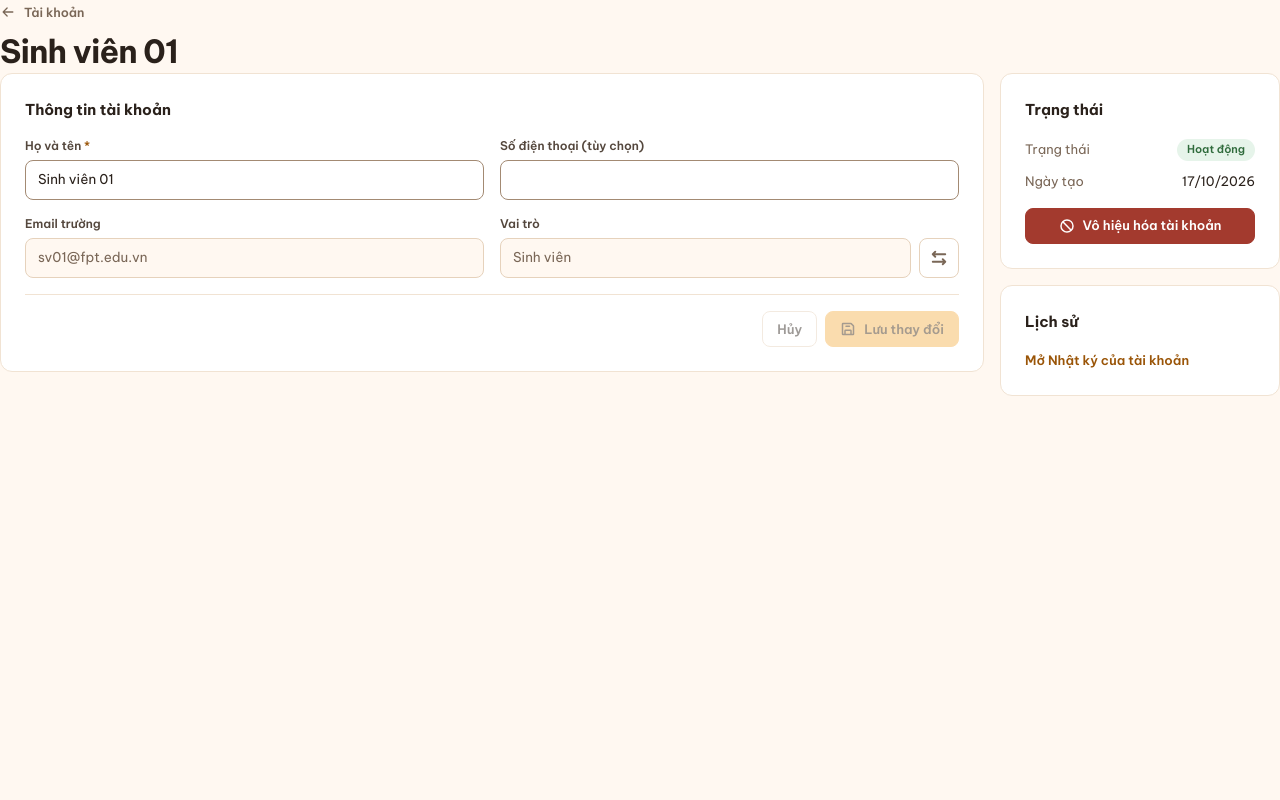
Test case: AccountDetailPage › bị chặn đổi vai trò thì hiện mã, tên môn và lớp thay cho ID
The width and height of the screenshot is (1280, 800).
Click the button named "Đổi vai trò" at coordinates (939, 258), box top-left (919, 238), bottom-right (959, 278)
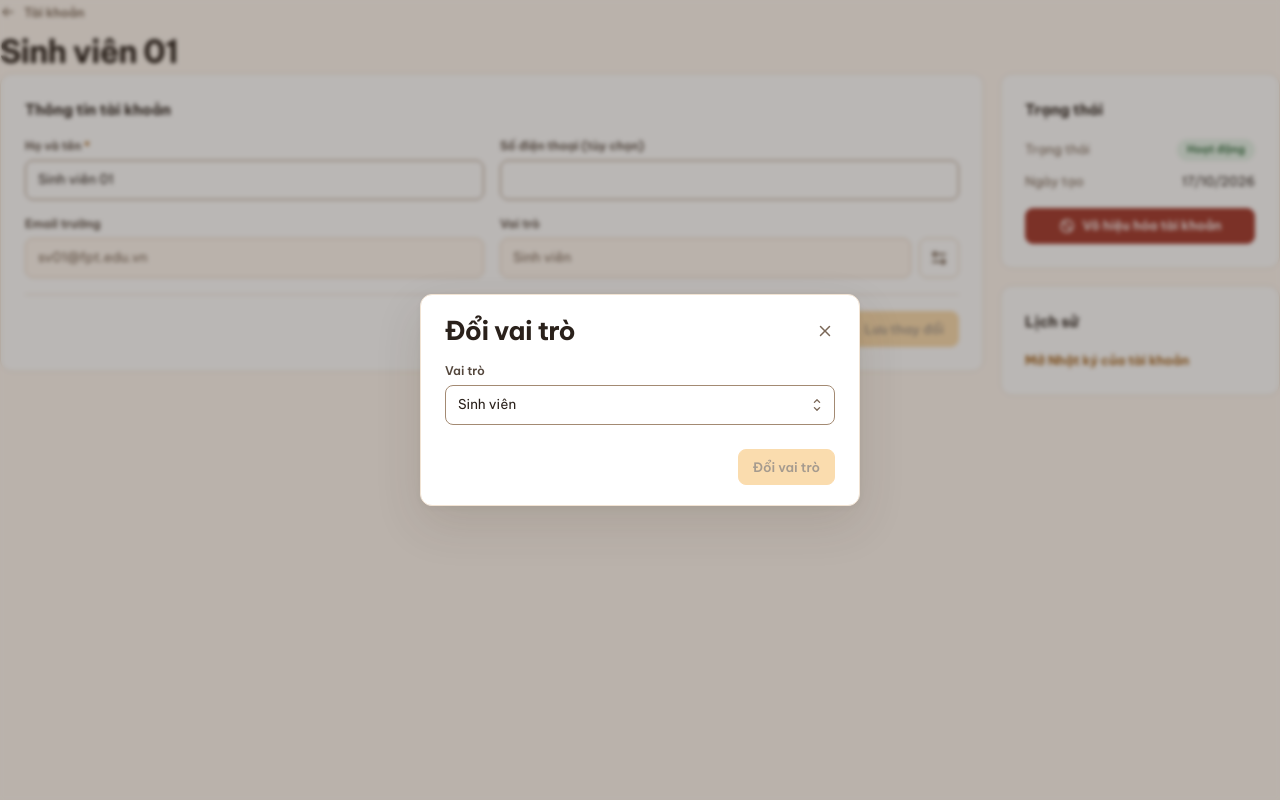
Result: the dropdown labelled "Vai trò" shows "Sinh viên"
Select "Giảng viên" in the dropdown labelled "Vai trò" at coordinates (642, 405), box top-left (458, 394), bottom-right (826, 416)
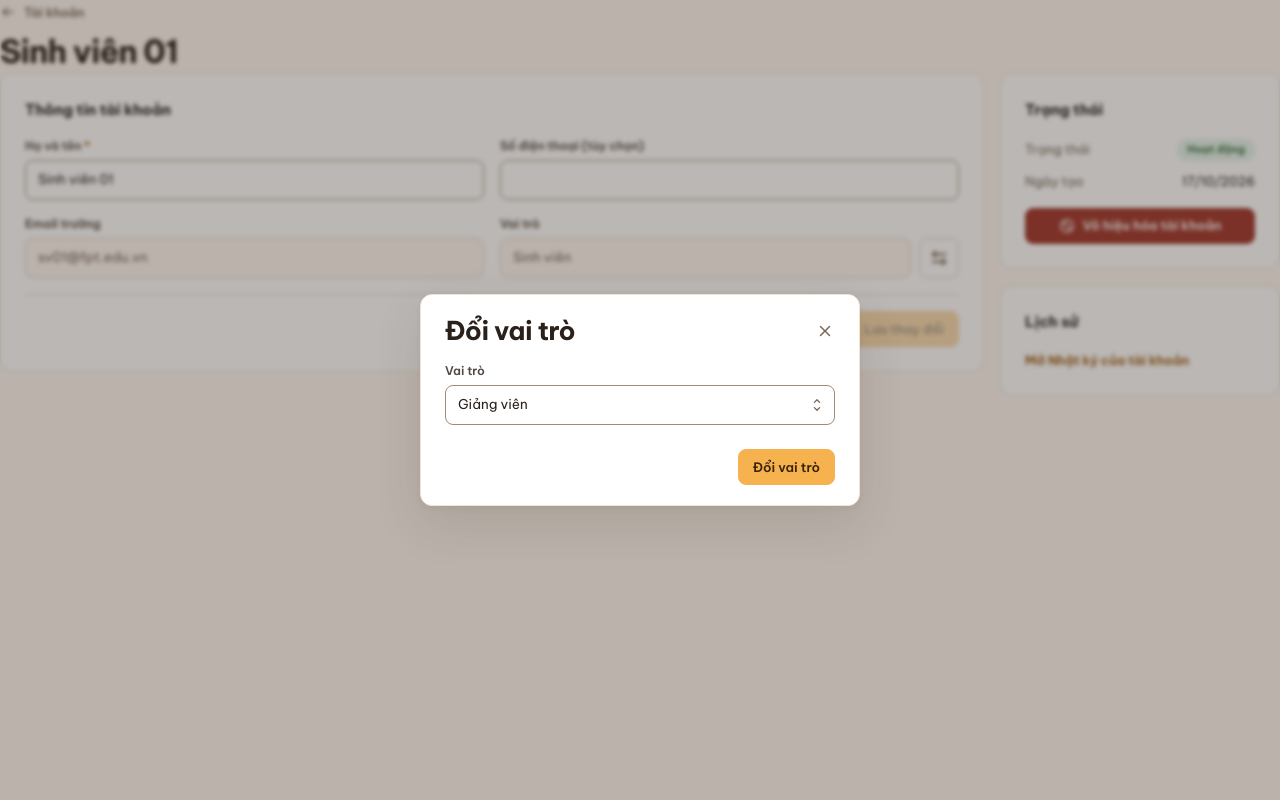
Click the button "Đổi vai trò" at coordinates (786, 467), box top-left (738, 449), bottom-right (835, 485)
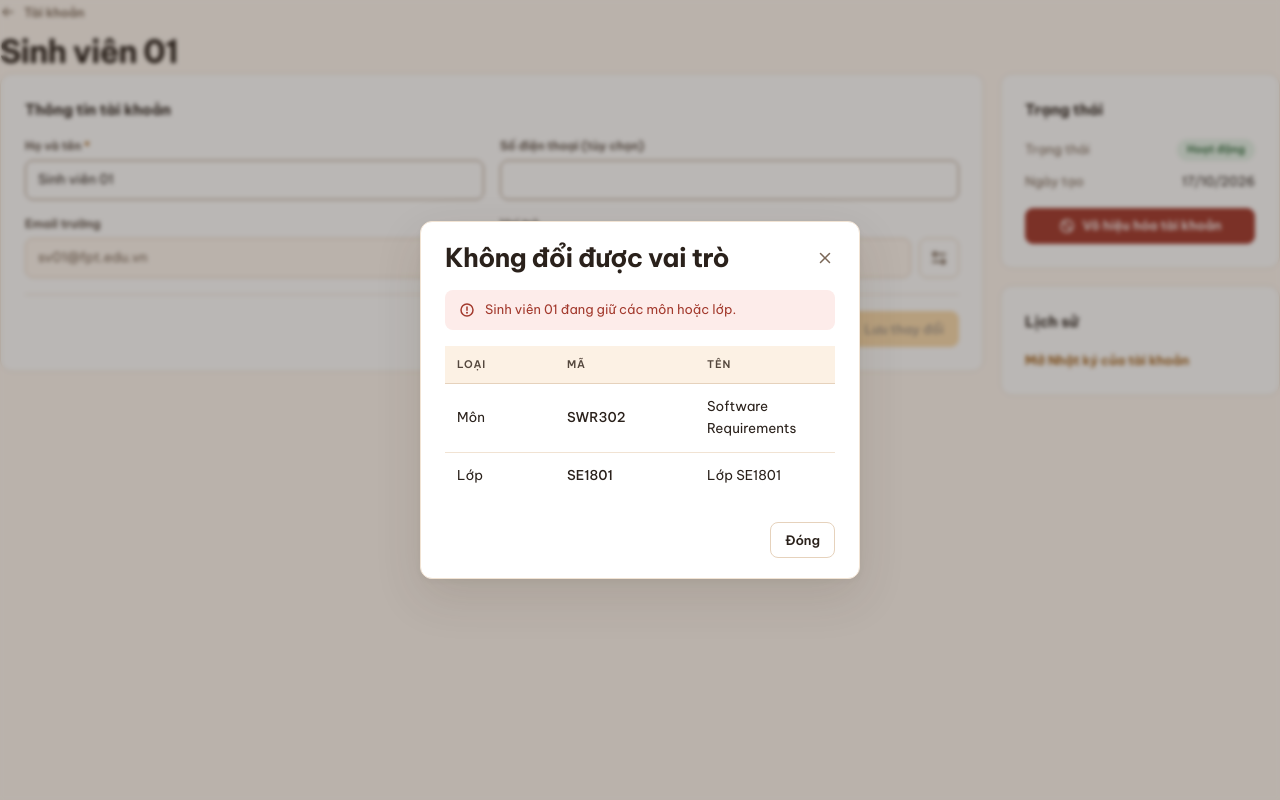
Result: the dialog "Không đổi được vai trò" shows "Software Requirements" at top-left (707, 397), bottom-right (796, 436)
Result: the dialog "Không đổi được vai trò" shows "SE1801" at top-left (567, 466), bottom-right (613, 484)
Result: the dialog "Không đổi được vai trò" shows "Lớp SE1801" at top-left (707, 466), bottom-right (781, 484)
